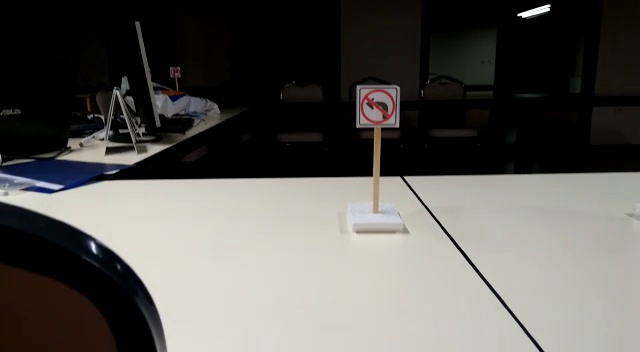sola_donulmez: (357, 88, 401, 128)
